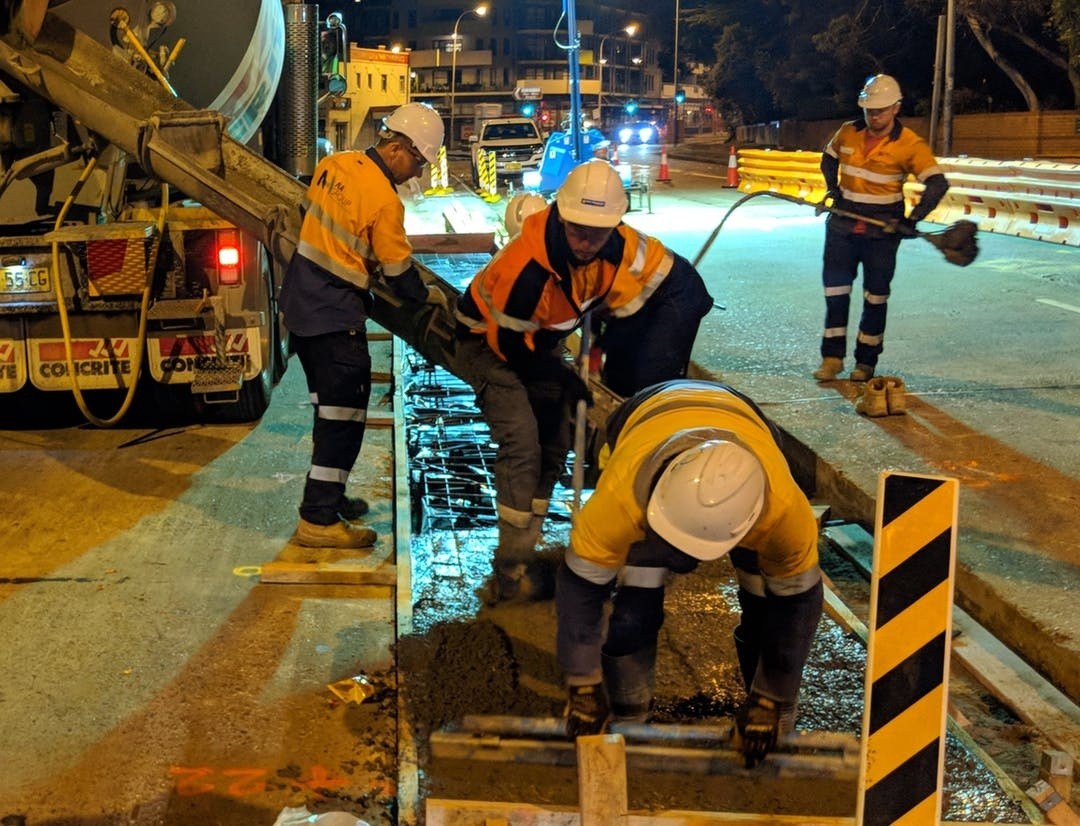white: (644, 432, 772, 564), (552, 156, 629, 259), (372, 100, 446, 180), (854, 72, 904, 129)
